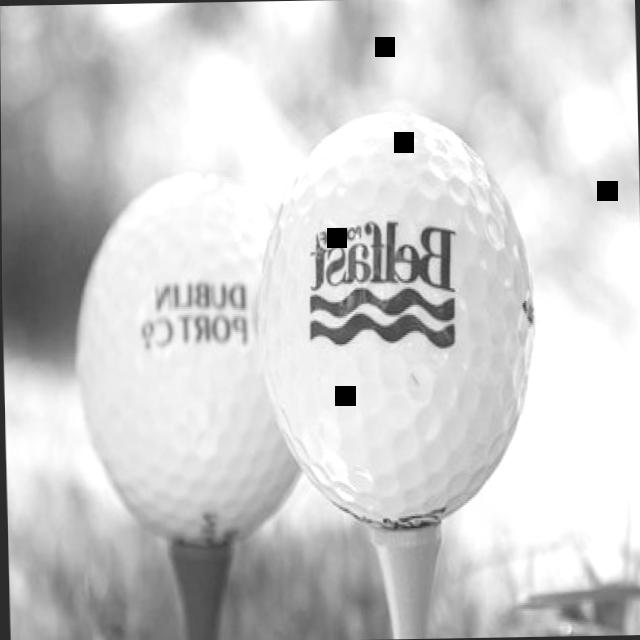golf ball: (250, 94, 545, 546), (60, 156, 289, 578)
